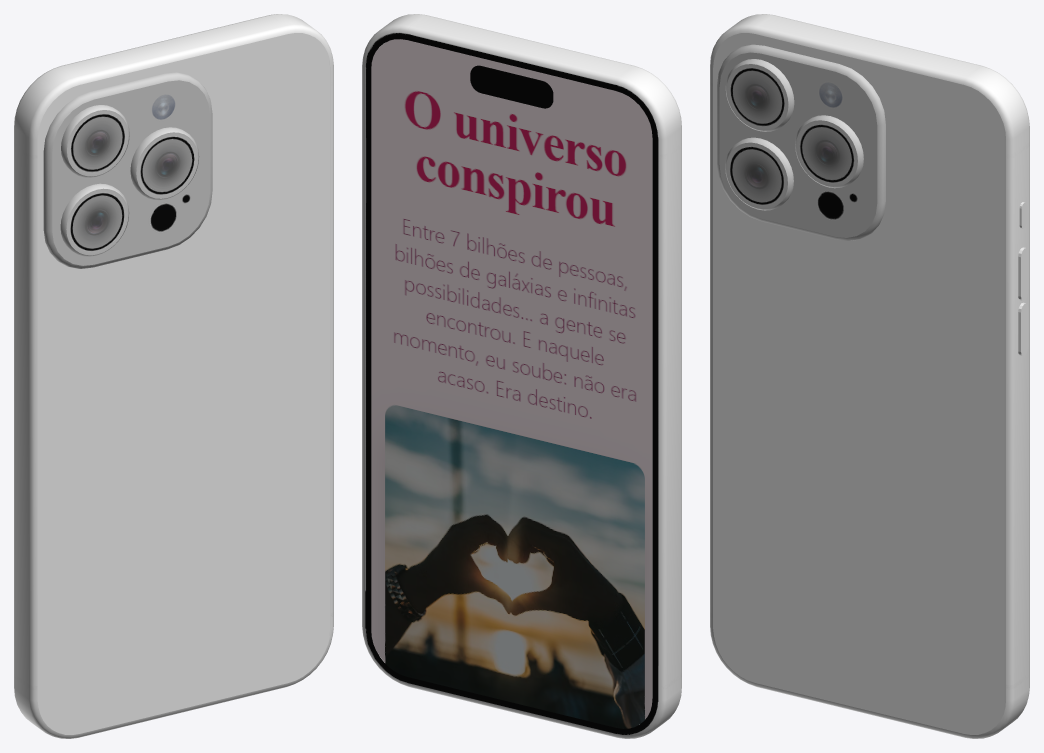
Rendered from eternal-iphone-optimized.glb.
The picture shows the model from 3 angles, left to right: view 1: azimuth 30°, elevation 25°; view 2: azimuth 150°, elevation 25°; view 3: azimuth 330°, elevation 25°; orthographic projection.
Visible parts, largest first — view 1: BasePhone, BaseCamera, Cameras; view 2: BasePhone; view 3: BasePhone, BaseCamera, Cameras, SideButtons.
Part boxes in pixels (box(x1,y1,x2,y2)): BasePhone: box(14, 14, 333, 738); BaseCamera: box(43, 72, 212, 268); Cameras: box(60, 105, 199, 256); BasePhone: box(362, 14, 681, 738); BasePhone: box(710, 14, 1029, 738); BaseCamera: box(717, 44, 885, 240); Cameras: box(725, 59, 863, 210); SideButtons: box(1018, 202, 1028, 355).
Bounding box in the file's own units: 0.0713 × 0.1466 × 0.0114.
2 materials, 2 textured.
